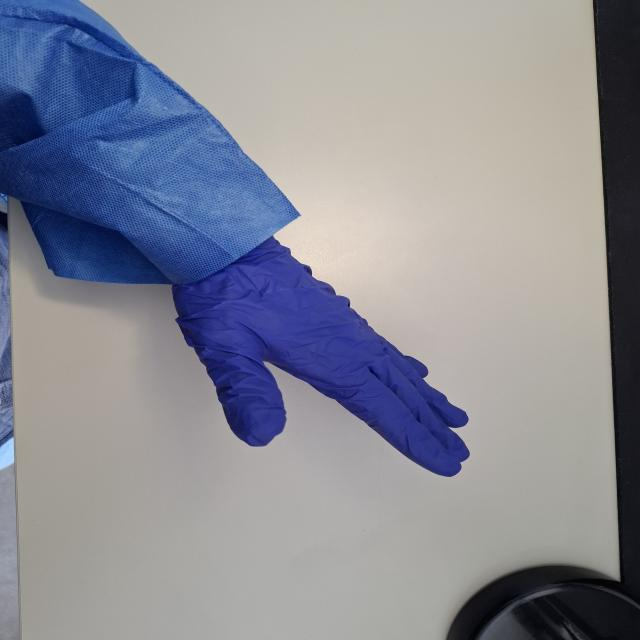glove_on: (163, 224, 476, 482)
